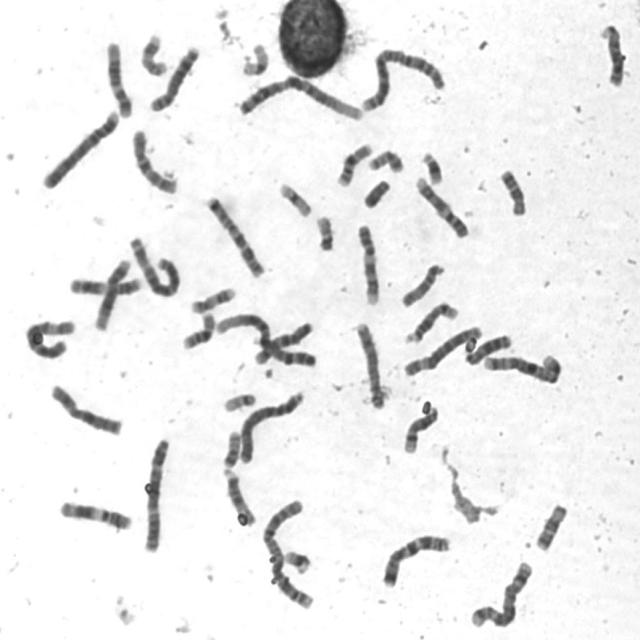A1: (233, 71, 366, 123), (212, 308, 318, 369)
A2: (258, 495, 316, 612), (355, 42, 447, 113)
A3: (138, 432, 172, 554), (126, 232, 182, 300)
B4: (37, 106, 121, 191), (235, 386, 306, 466)
B5: (466, 558, 534, 631), (480, 350, 564, 386)
C10: (128, 125, 180, 196), (251, 318, 315, 367)
C11: (55, 496, 134, 532), (65, 272, 144, 297)
C12: (90, 254, 132, 332), (101, 36, 134, 119)
C6: (400, 321, 483, 379), (21, 314, 77, 360)
C7: (201, 191, 267, 280), (378, 529, 453, 590)
C8: (145, 41, 201, 114), (352, 318, 388, 411)
C9: (411, 172, 470, 240), (353, 220, 382, 307)
D13: (595, 19, 627, 89), (465, 333, 512, 366)
D14: (400, 298, 459, 346), (399, 398, 441, 456)
D15: (218, 464, 258, 528), (396, 259, 446, 309)
E16: (333, 139, 375, 188), (178, 307, 217, 352)
E17: (186, 282, 238, 314), (136, 29, 168, 78)
E18: (531, 499, 569, 553), (496, 164, 528, 218)
F19: (275, 177, 314, 219), (238, 39, 271, 78)
F20: (364, 145, 406, 175), (218, 425, 242, 470)
G21: (417, 147, 445, 186), (280, 545, 313, 577)
G22: (219, 388, 258, 414), (312, 211, 336, 253)
X: (46, 379, 125, 438)
Y: (359, 176, 392, 210)
